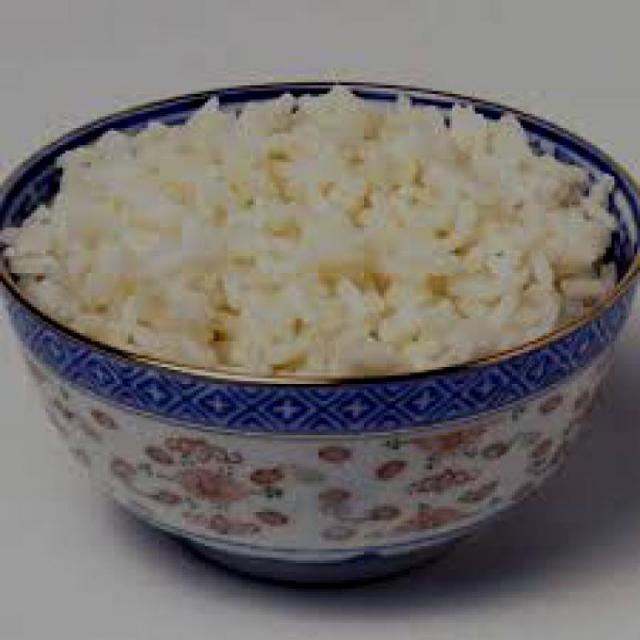rice: (6, 91, 620, 380)
